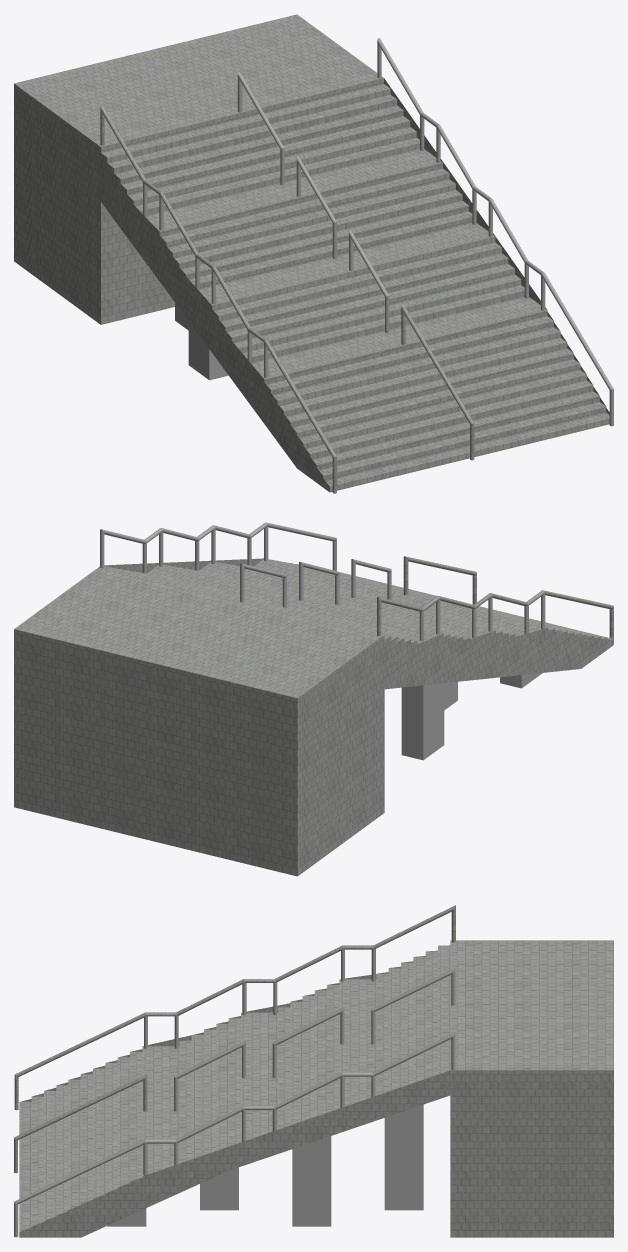
The picture shows the model from 3 angles, top to bottom: view 1: azimuth 30°, elevation 25°; view 2: azimuth 150°, elevation 25°; view 3: azimuth 270°, elevation 25°; orthographic projection. The views are drawn at different scales.
Parts seen in each view (by area): view 1: Model; view 2: Model; view 3: Model.
Boxes of the visible parts, <box> form: Model: <box>14,14,613,493</box>; Model: <box>14,522,613,876</box>; Model: <box>14,905,613,1237</box>.
Bounding box in the file's own units: 300 × 219 × 585.
Materials: 3 (1 with a texture image).
